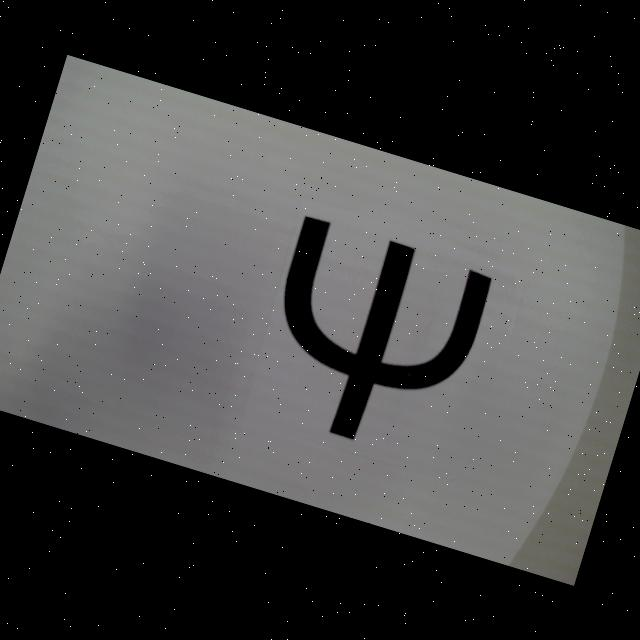PSI: (245, 214, 496, 465)
